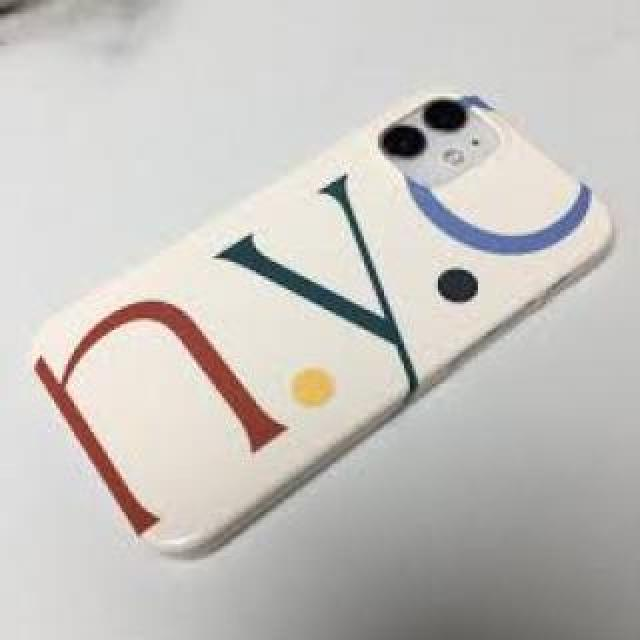smart phone: (19, 60, 640, 574)
